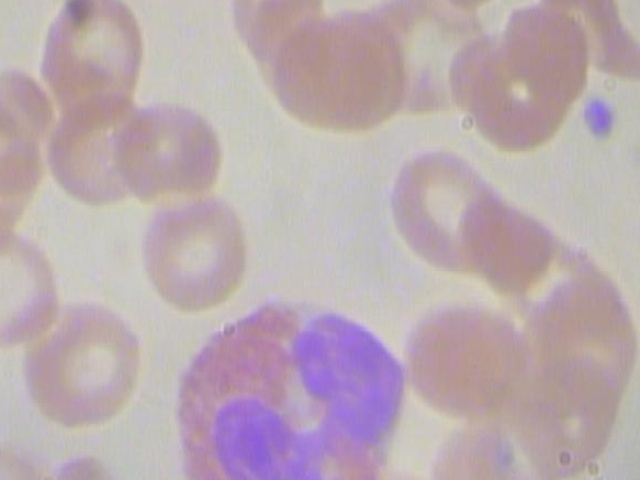Platelets: (573, 89, 624, 148)
RBC: (272, 2, 408, 139), (398, 288, 534, 424), (387, 142, 510, 277), (132, 181, 255, 316), (24, 296, 147, 431), (34, 0, 156, 118), (114, 92, 229, 207), (573, 0, 640, 80), (428, 0, 543, 15)
WBC: (163, 282, 411, 480)
